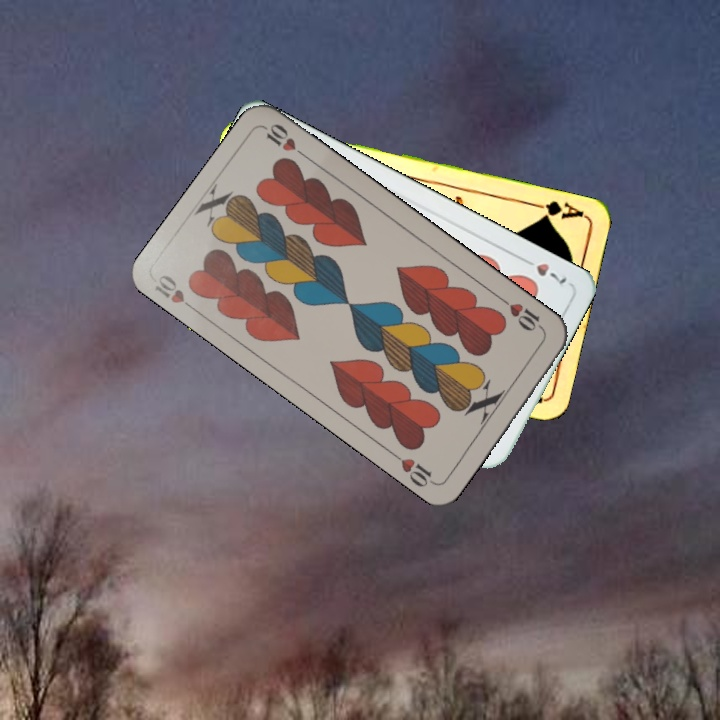GA: (527, 197, 586, 223)
H10: (151, 270, 202, 316), (497, 294, 548, 335)
H7: (517, 253, 570, 288)
